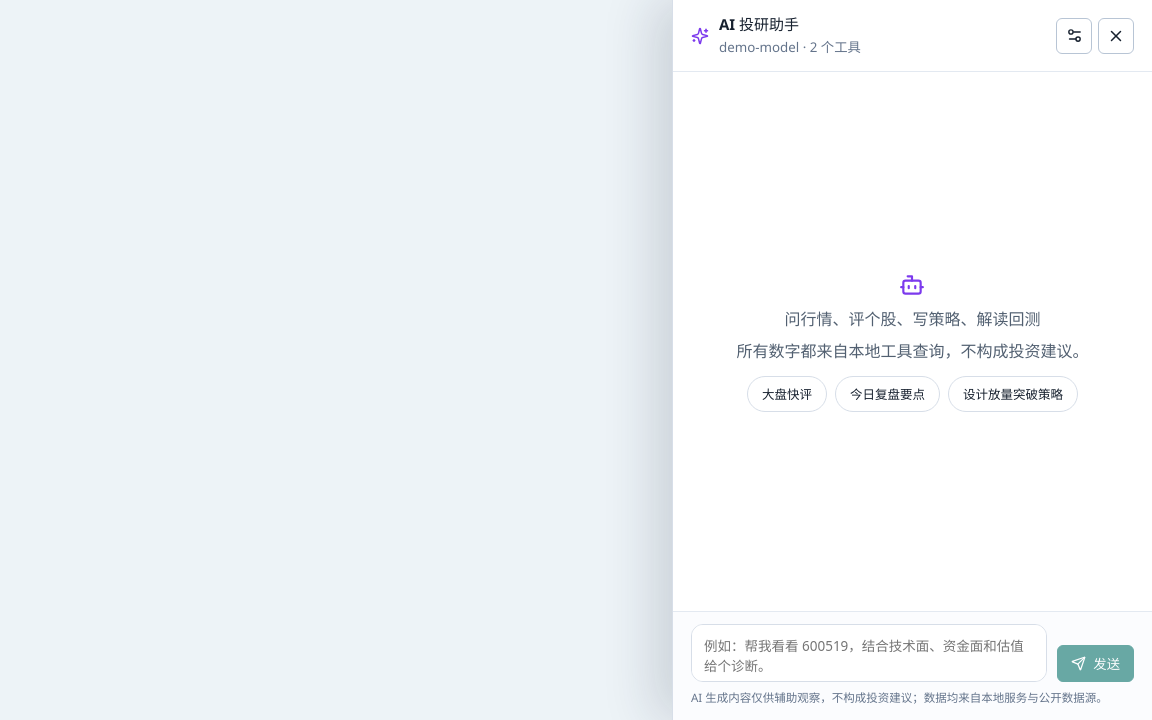
Test: AiAssistantPanel › streams tool steps and markdown reply into the transcript
Type "行情如何" into the text box with placeholder "例如：帮我看看 600519，结合技术面、资金面和估值给个诊断。" at (869, 653), box [691,624,1047,682]
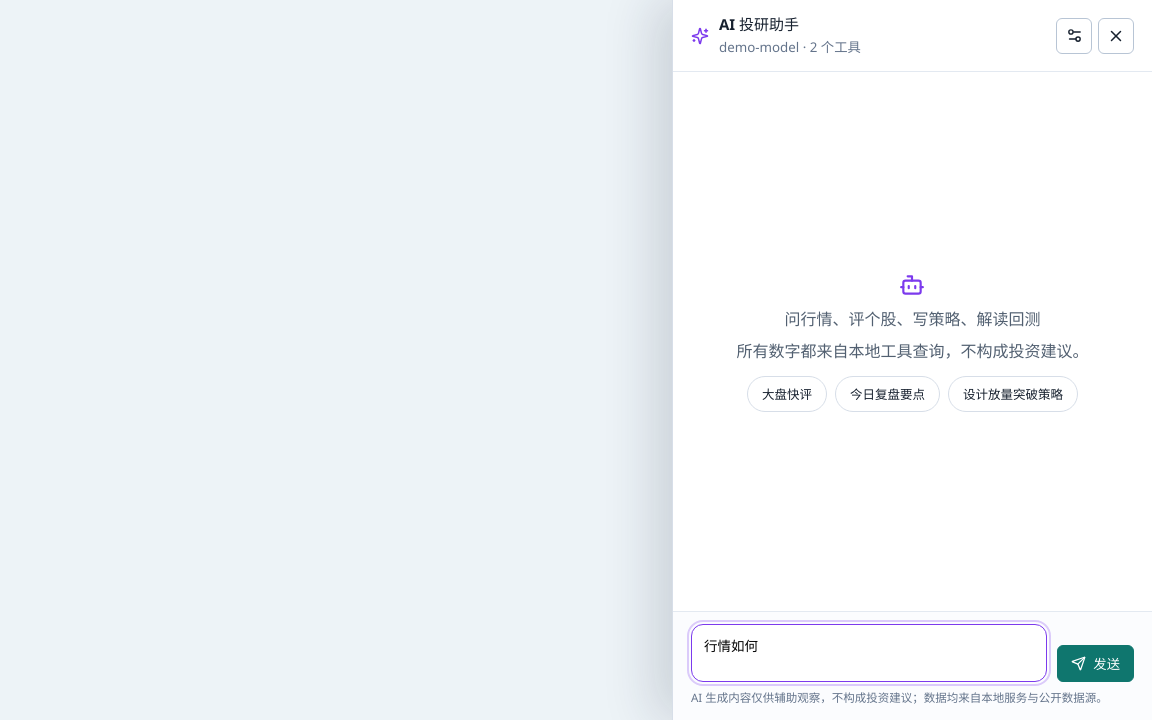
Click the button "发送" at (1096, 664), box [1057,645,1134,682]
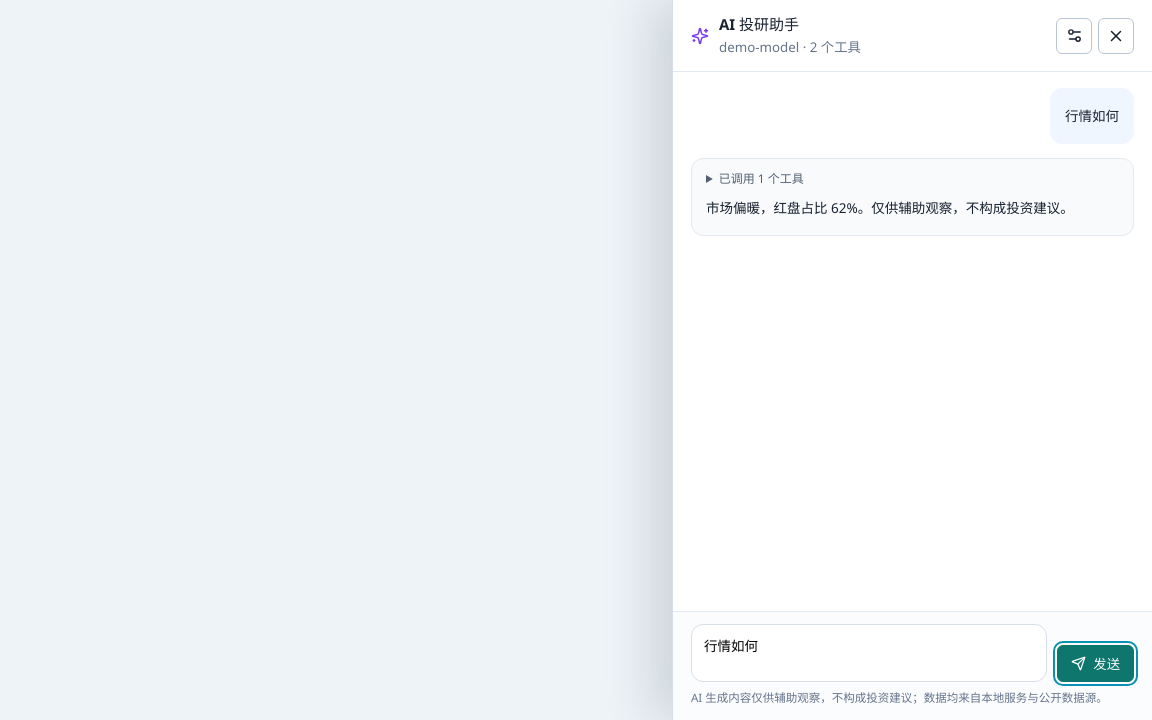
Result: the text "市场偏暖，红盘占比 62%。仅供辅助观察，不构成投资建议。" is shown at [706,197,1119,219]
Result: the heading "已调用 1 个工具" is shown at [719,170,804,187]
